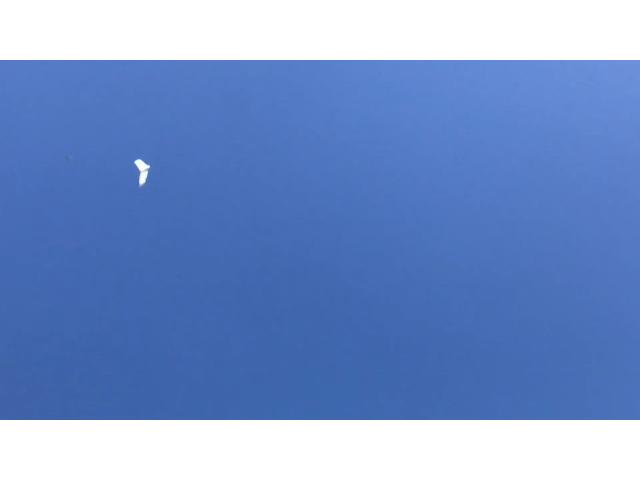Anti-Drone: (129, 153, 165, 191)
